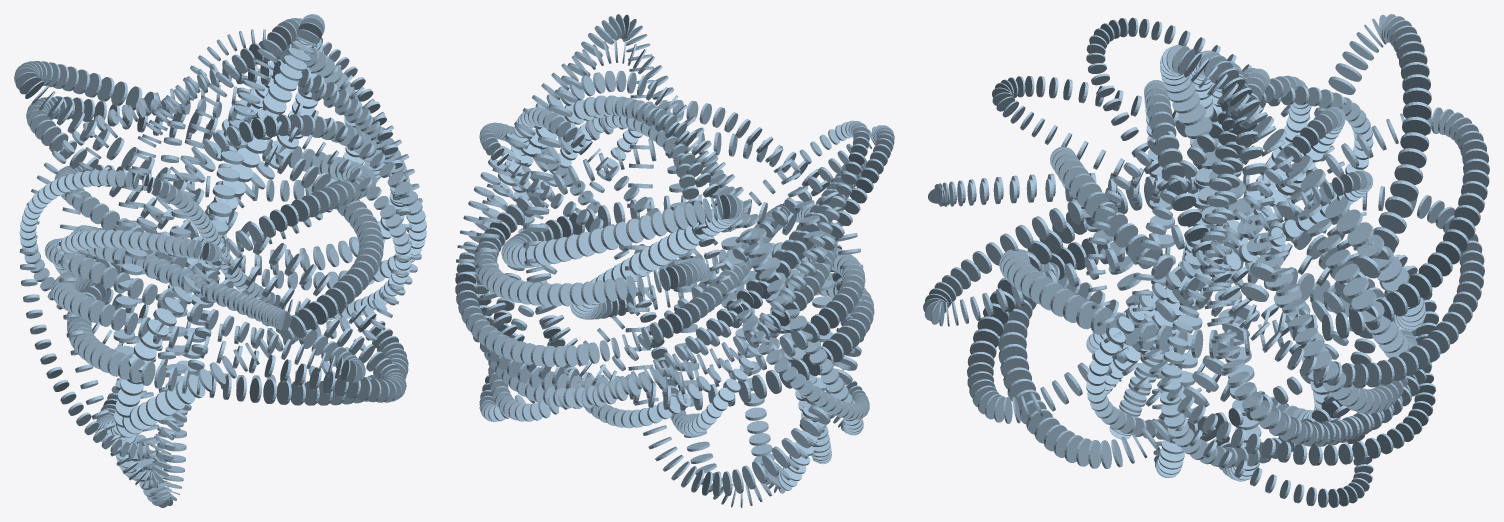
Rendered from hero.glb.
3 views of the same model, side by side, from view 1: azimuth 30°, elevation 25°; view 2: azimuth 150°, elevation 25°; view 3: azimuth 270°, elevation 25° (orthographic). The views are drawn at different scales.
Visible parts, largest first — view 1: world; view 2: world; view 3: world.
Part boxes in pixels (x1,y1,x2,y2): world: (14, 14, 426, 507); world: (455, 14, 894, 507); world: (923, 14, 1489, 507).
Size of the model in its own units: 2.51 by 2.97 by 2.96.
